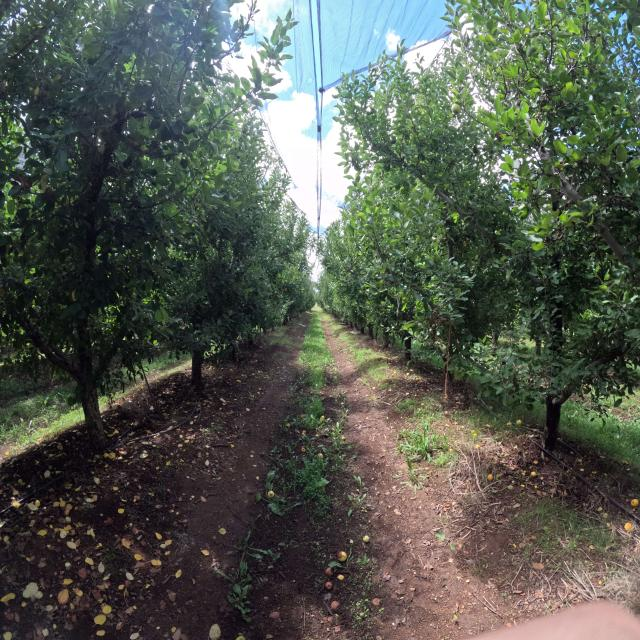-FireBlight-: (429, 308, 447, 344)
